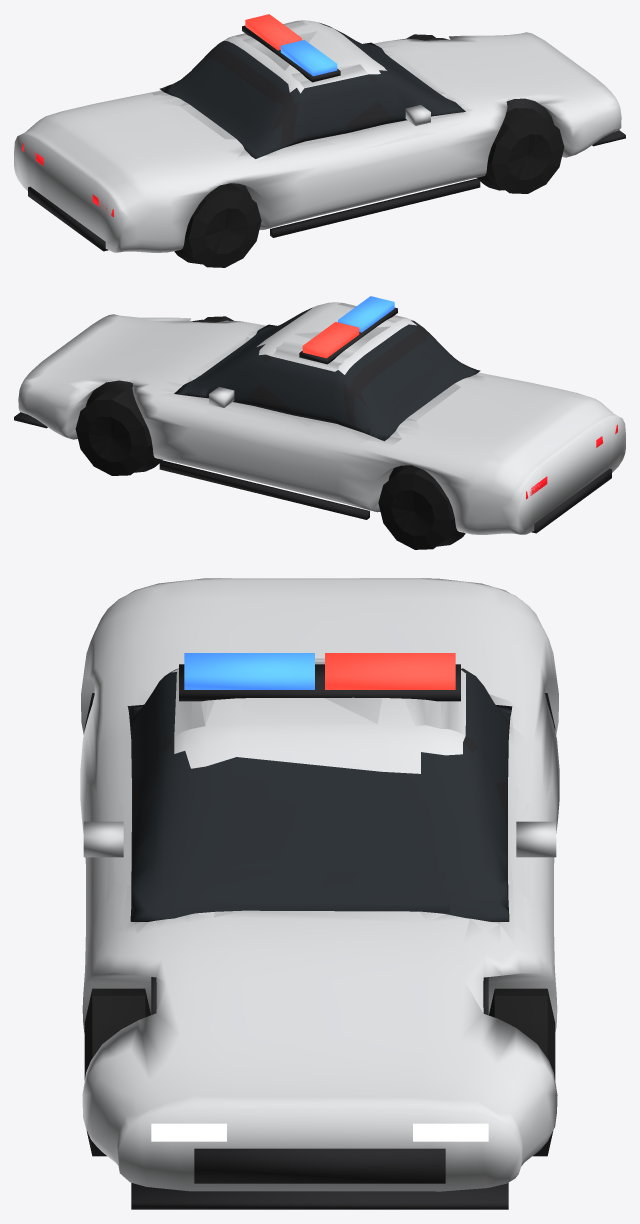
The model's file is pace_car_lod2.glb.
3 views of the same model, one above another, from view 1: azimuth 30°, elevation 25°; view 2: azimuth 150°, elevation 25°; view 3: azimuth 270°, elevation 25° (orthographic). The views are drawn at different scales.
Parts seen in each view (by area): view 1: Body, Tire_FR, Tire_RR; view 2: Body, Tire_FL, Tire_RL; view 3: Body, Tire_FL, Tire_FR.
Part boxes in pixels (<box>): Body: <box>14,14,625,264</box>; Tire_FR: <box>485,108,564,193</box>; Tire_RR: <box>182,183,261,267</box>; Body: <box>14,296,625,546</box>; Tire_FL: <box>75,390,153,475</box>; Tire_RL: <box>378,465,457,549</box>; Body: <box>80,578,559,1209</box>; Tire_FL: <box>489,988,555,1156</box>; Tire_FR: <box>84,988,150,1156</box>.
Size of the model in its own units: 4.71 by 1.41 by 1.91.
